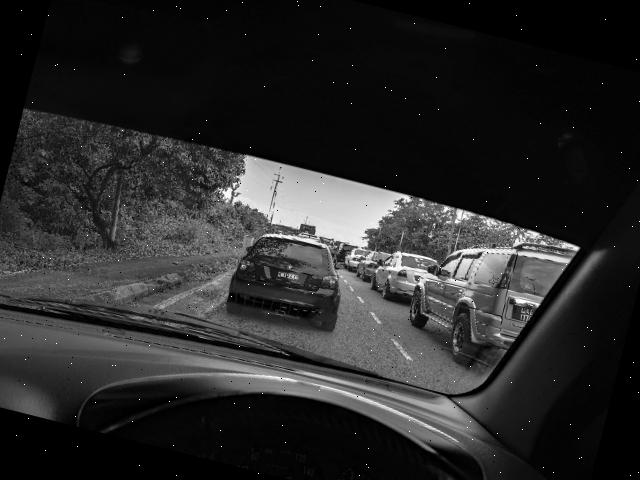License_Plate: (269, 267, 308, 287), (512, 305, 538, 324)
car: (401, 222, 578, 385), (222, 222, 357, 337), (365, 244, 441, 311)
